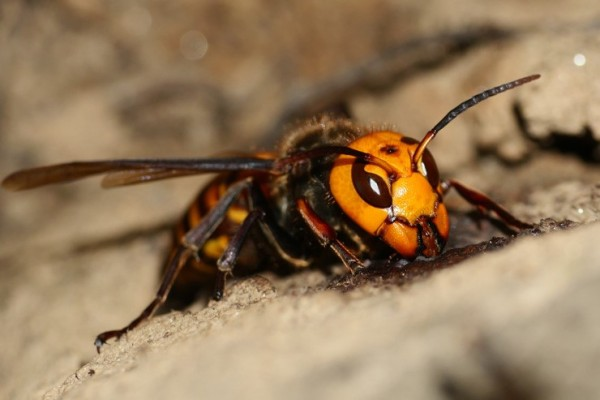asian_giant_hornet: (173, 99, 470, 300)
